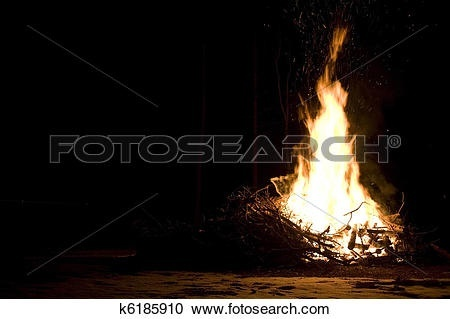fire: (280, 68, 393, 258)
